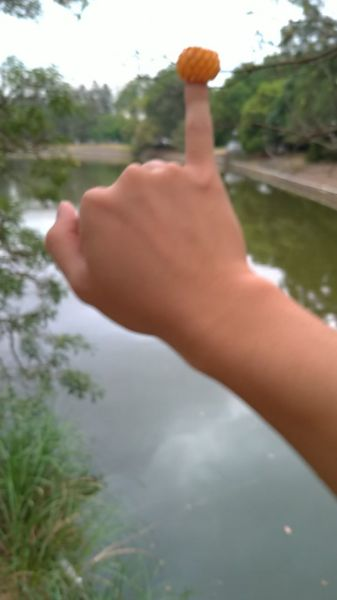eggs: (175, 46, 221, 82)
